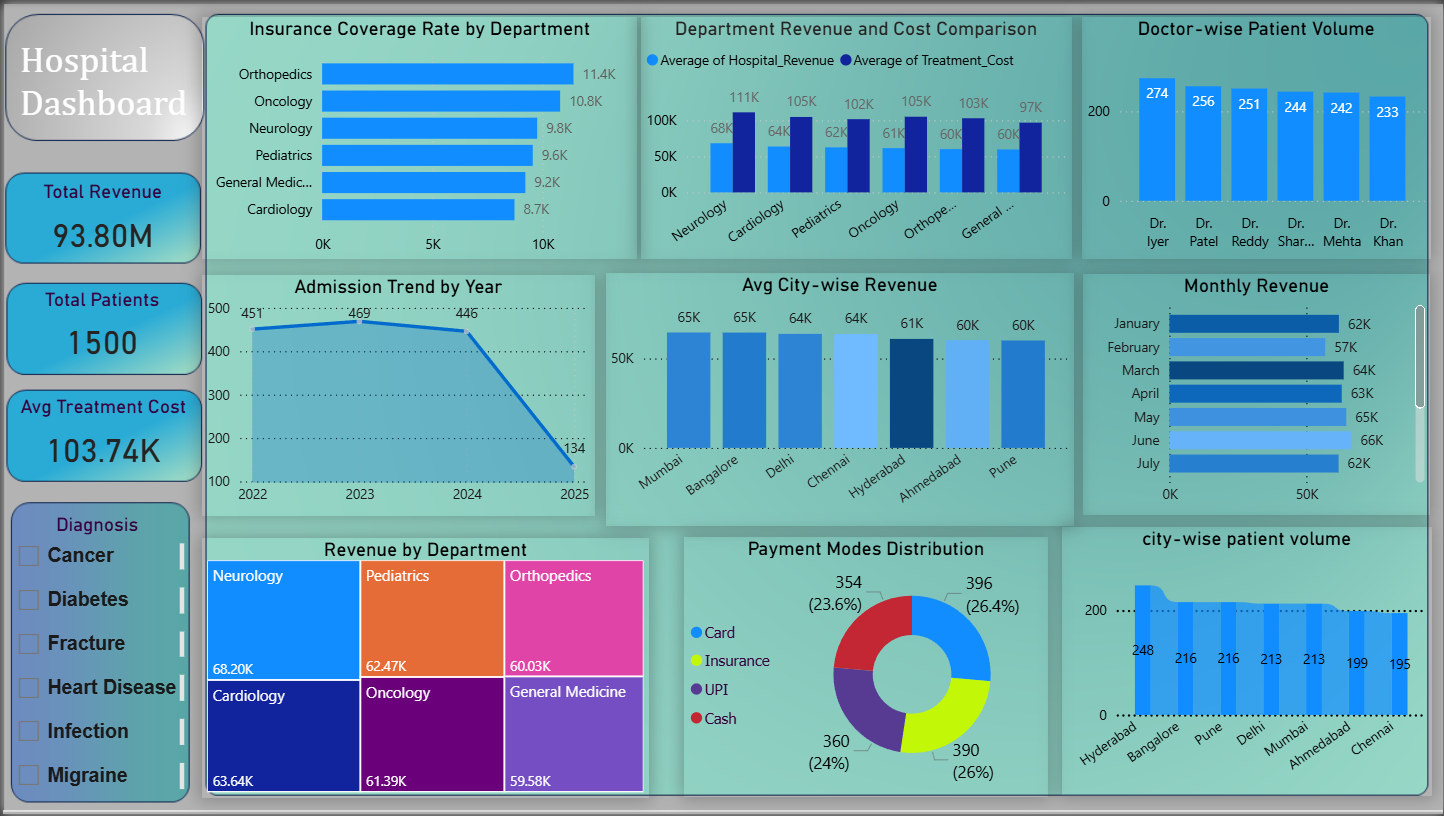

What the dashboard file says about the page in this screenshot:
{"tool":"powerbi","page":{"name":"Main_Dashboard","canvas":[1280,720],"ordinal":0},"visuals":[{"type":"card","title":"Total Patients","fields":{"Values":["Count(Hospital_Data.Patient_ID)"]},"box":[0,252.5,176,75],"z":0},{"type":"card","title":"Total Revenue","fields":{"Values":["Sum(Hospital_Data.Hospital_Revenue)"]},"box":[0,156.5,177.2,76.7],"z":1000},{"type":"ribbonChart","title":"city-wise patient volume","fields":{"Category":["Hospital_Data.City"],"Y":["Count(Hospital_Data.Patient_ID)"]},"box":[940.7,464.6,328.9,239.5],"z":3000},{"type":"slicer","title":"Diagnosis","fields":{"Values":["Hospital_Data.Diagnosis"]},"box":[1.2,451.8,165.4,266.1],"z":4000},{"type":"columnChart","title":"Avg City-wise Revenue","fields":{"Category":["Hospital_Data.City"],"Y":["Avg(Hospital_Data.Hospital_Revenue)"]},"box":[535.8,238.3,416.6,224.9],"z":5000},{"type":"areaChart","title":"Admission Trend by Year","fields":{"Category":["Hospital_Data.Admission_Date.Variation.Date Hierarchy.Year"],"Y":["CountNonNull(Hospital_Data.Admission_Date)"]},"box":[177.2,241.5,349.2,213.5],"z":6000},{"type":"card","title":"Avg Treatment Cost","fields":{"Values":["Avg(Hospital_Data.Treatment_Cost)"]},"box":[1.4,347.7,176,75],"z":7000},{"type":"clusteredBarChart","title":"Monthly Revenue","fields":{"Category":["Hospital_Data.Discharge_Date.Variation.Date Hierarchy.Month"],"Y":["Avg(Hospital_Data.Hospital_Revenue)"]},"box":[959.6,240.4,308.8,214.5],"z":9000},{"type":"treemap","title":"Revenue by Department","fields":{"Group":["Hospital_Data.Department"],"Values":["Avg(Hospital_Data.Hospital_Revenue)"]},"box":[177.2,474.6,397.9,231.1],"z":11000},{"type":"donutChart","title":"Payment Modes Distribution","fields":{"Category":["Hospital_Data.Payment_Mode"],"Y":["CountNonNull(Hospital_Data.Payment_Mode)"]},"box":[606,473.2,323.2,230.8],"z":13000},{"type":"textbox","box":[10.4,11.4,166.8,107.8],"z":14000},{"type":"columnChart","title":"Doctor-wise Patient Volume","fields":{"Category":["Hospital_Data.Doctor_Name"],"Y":["CountNonNull(Hospital_Data.Patient_ID)"]},"box":[959.4,11.5,310.2,215],"z":14001},{"type":"clusteredColumnChart","title":"Department Revenue and Cost Comparison","fields":{"Category":["Hospital_Data.Department"],"Y":["Avg(Hospital_Data.Hospital_Revenue)","Avg(Hospital_Data.Treatment_Cost)"]},"box":[566.8,11.4,383.4,215.5],"z":14002},{"type":"barChart","title":"Insurance Coverage Rate by Department","fields":{"Category":["Hospital_Data.Department"],"Y":["Sum(Hospital_Data.Insurance_Coverage_%)"]},"box":[177.2,11.4,387.6,215.5],"z":14003}]}

Visuals, with their boxes in screenshot pixels (x1, y1, x2, y2), scaled from the page's 1280x720 canvas onto the 1444x816 screenshot:
"Total Patients" card: (x1=0, y1=286, x2=199, y2=371)
"Total Revenue" card: (x1=0, y1=177, x2=200, y2=264)
"city-wise patient volume" ribbonChart: (x1=1061, y1=527, x2=1432, y2=798)
"Diagnosis" slicer: (x1=1, y1=512, x2=188, y2=814)
"Avg City-wise Revenue" columnChart: (x1=604, y1=270, x2=1074, y2=525)
"Admission Trend by Year" areaChart: (x1=200, y1=274, x2=594, y2=516)
"Avg Treatment Cost" card: (x1=2, y1=394, x2=200, y2=479)
"Monthly Revenue" clusteredBarChart: (x1=1083, y1=272, x2=1431, y2=516)
"Revenue by Department" treemap: (x1=200, y1=538, x2=649, y2=800)
"Payment Modes Distribution" donutChart: (x1=684, y1=536, x2=1048, y2=798)
textbox: (x1=12, y1=13, x2=200, y2=135)
"Doctor-wise Patient Volume" columnChart: (x1=1082, y1=13, x2=1432, y2=257)
"Department Revenue and Cost Comparison" clusteredColumnChart: (x1=639, y1=13, x2=1072, y2=257)
"Insurance Coverage Rate by Department" barChart: (x1=200, y1=13, x2=637, y2=257)
